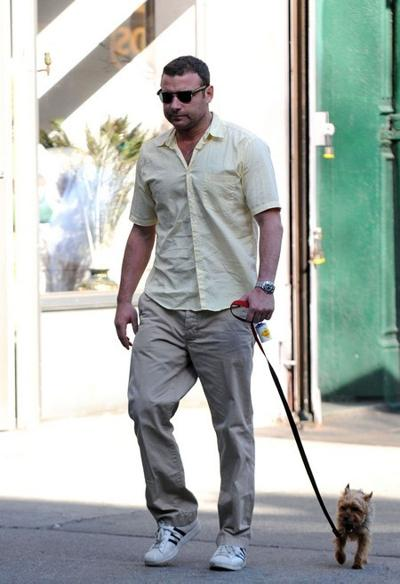person: (116, 58, 284, 569)
